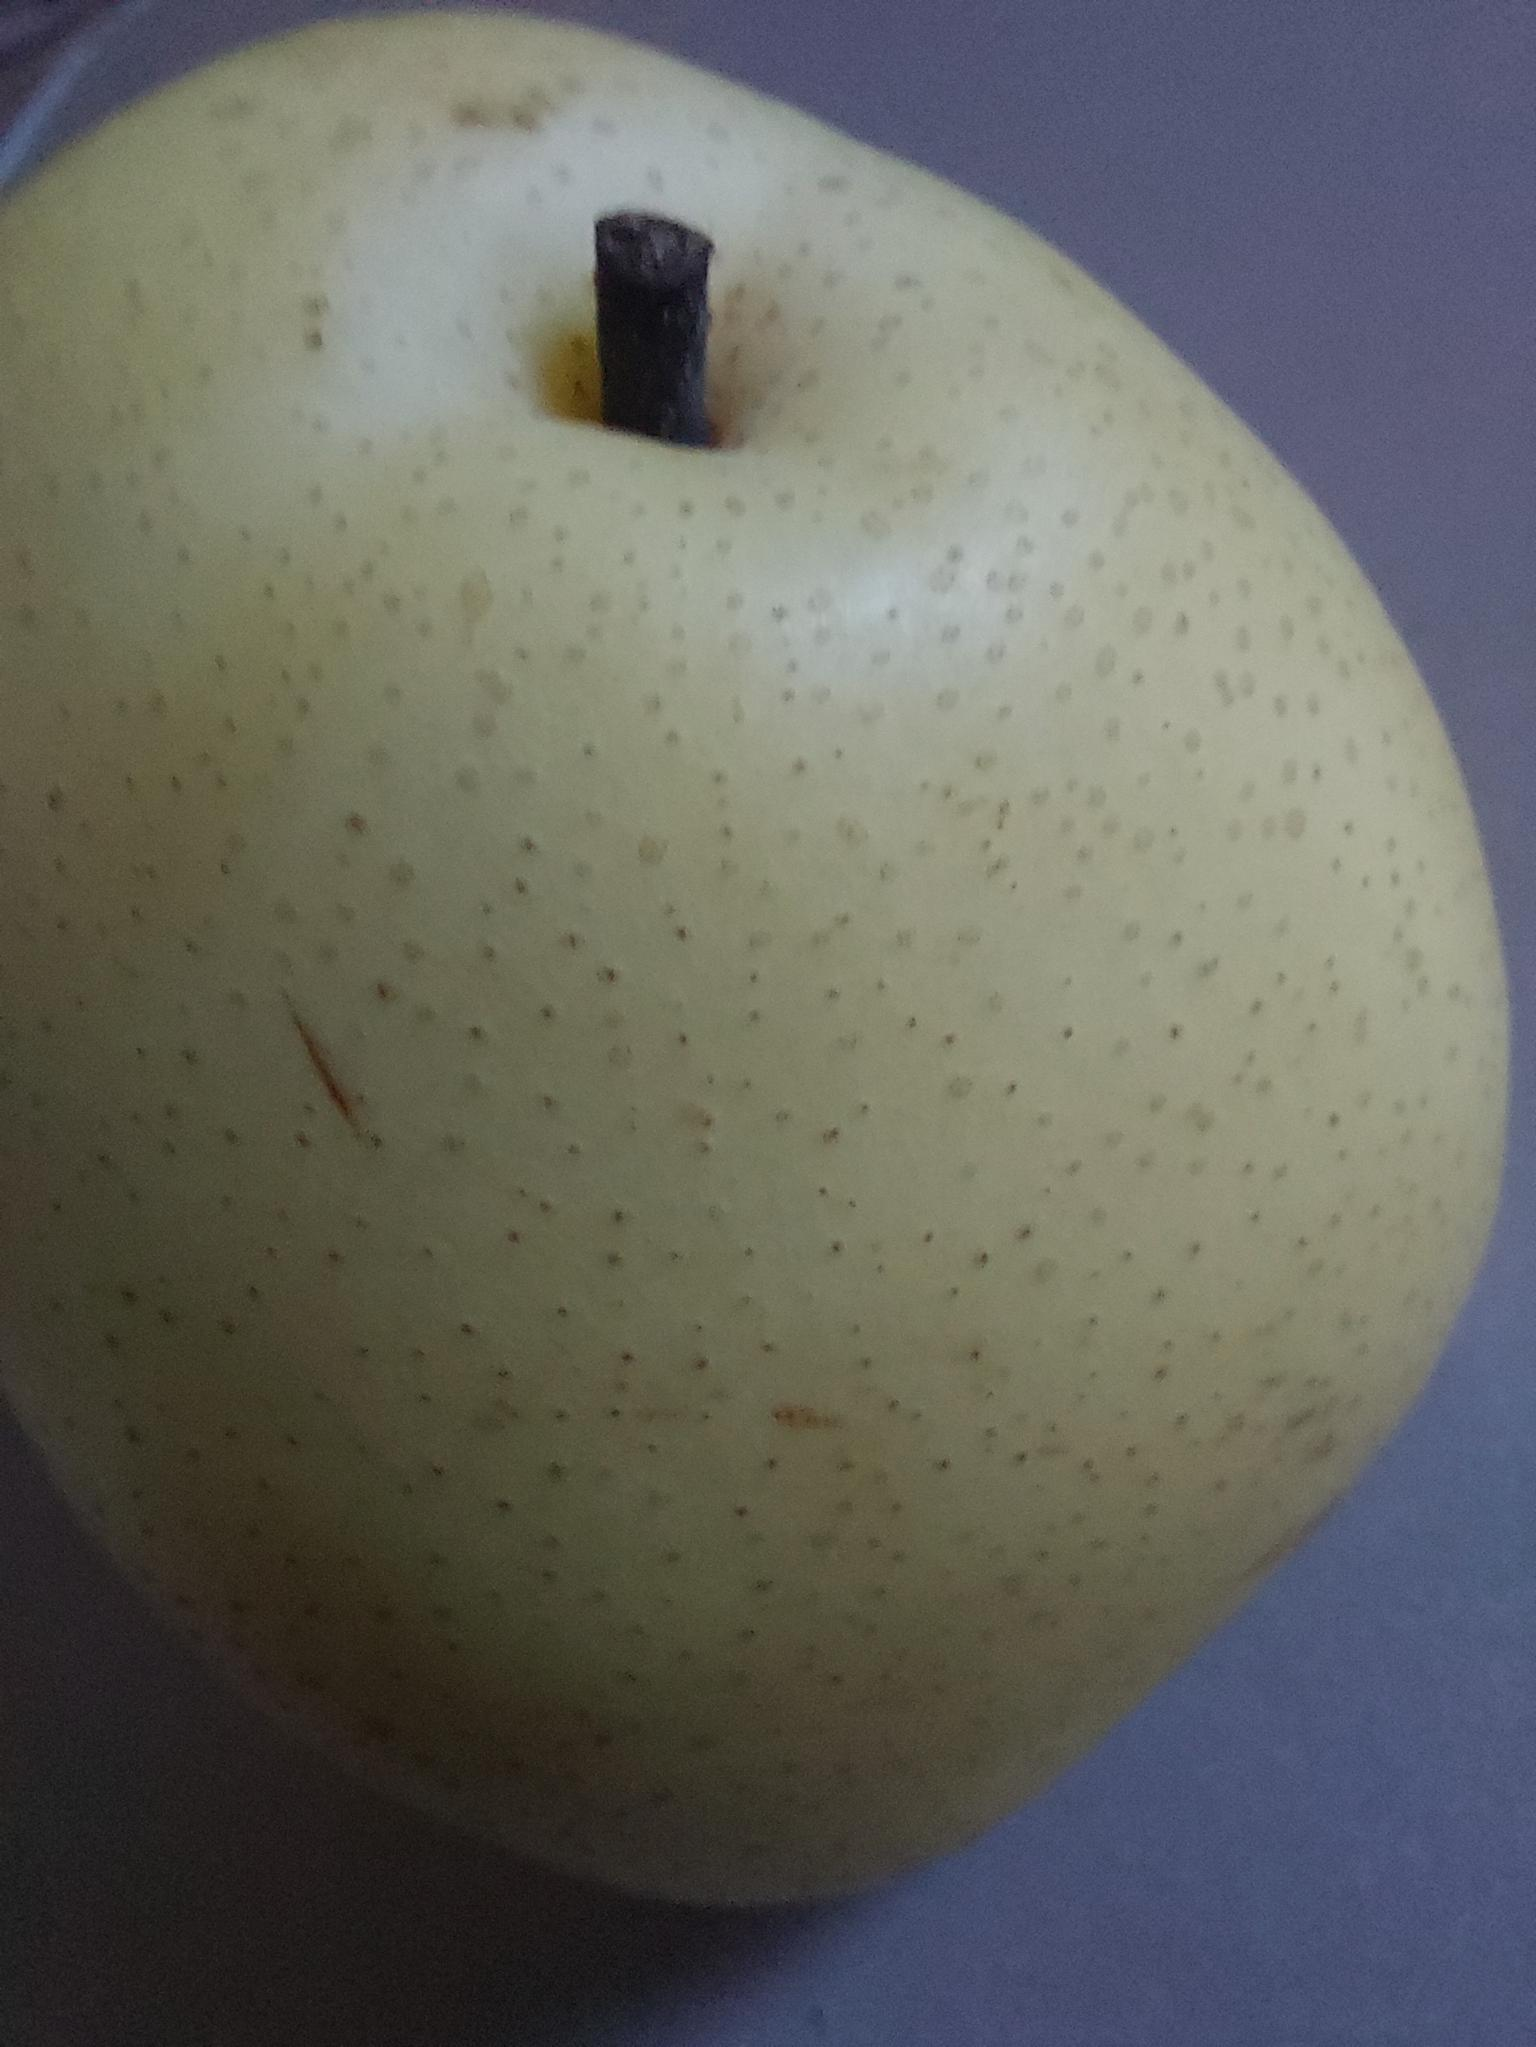Good Pear: (16, 0, 1536, 1986)
